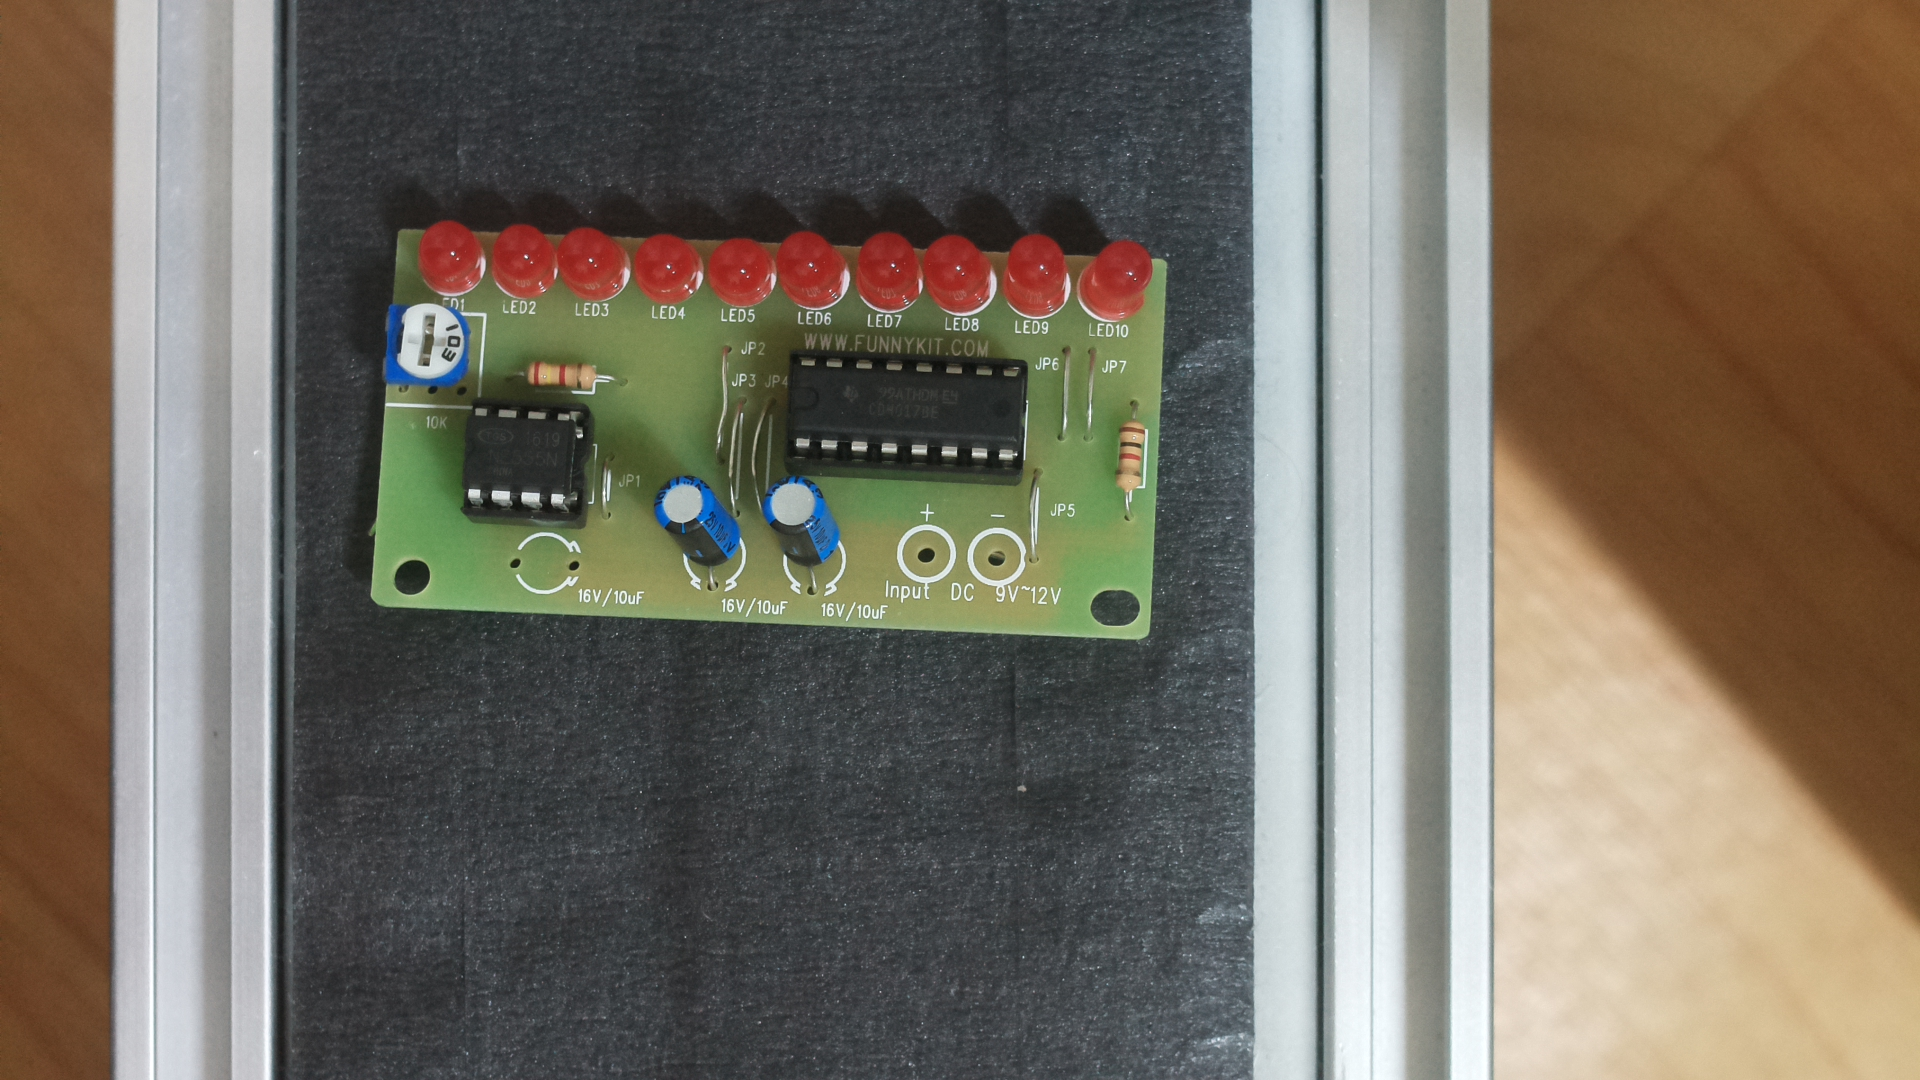B_Missing_part: (357, 203, 1178, 669)
